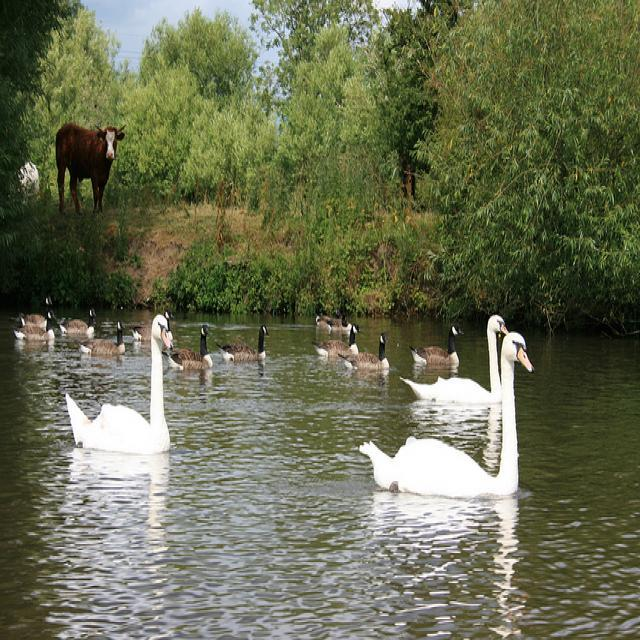cow: (53, 120, 124, 217)
